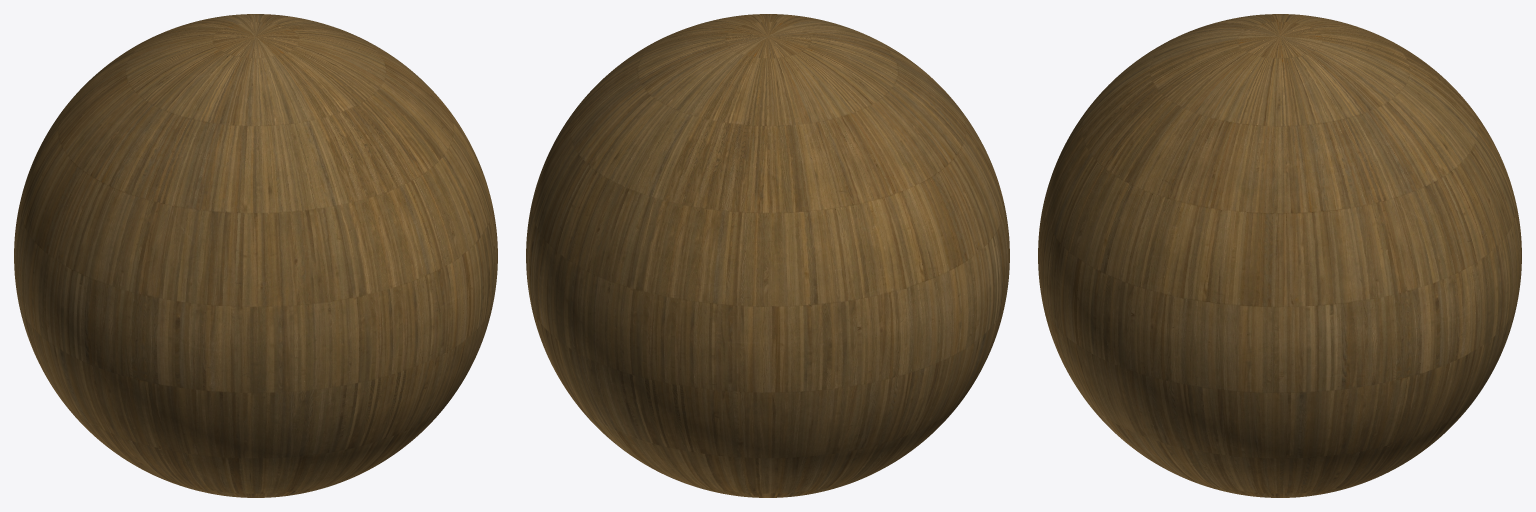
Rendered from rectangular_parquet_1k.gltf.
3 views of the same model, side by side, from view 1: azimuth 30°, elevation 25°; view 2: azimuth 150°, elevation 25°; view 3: azimuth 270°, elevation 25° (orthographic).
Visible parts, largest first — view 1: sphere_gltf; view 2: sphere_gltf; view 3: sphere_gltf.
Boxes of the visible parts, box(x1,y1,x2,y2) form: sphere_gltf: box(14, 14, 497, 497); sphere_gltf: box(526, 14, 1009, 497); sphere_gltf: box(1038, 14, 1521, 497).
Size of the model in its own units: 2.26 by 2.26 by 2.26.
1 material, 1 textured.
